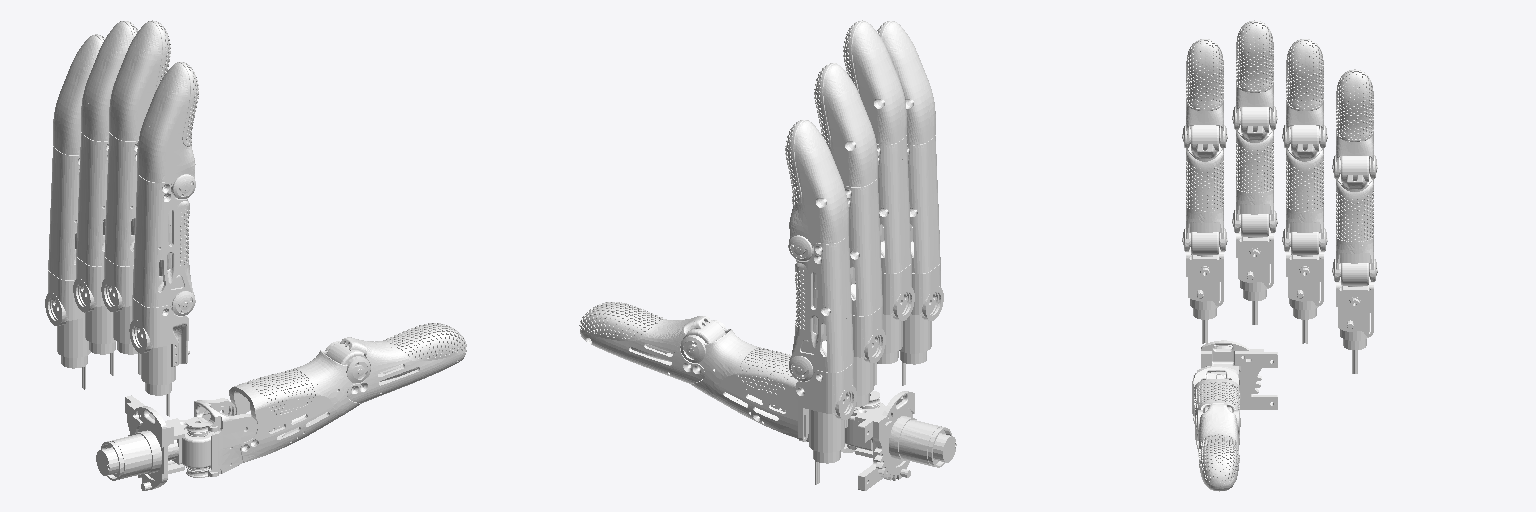
robot.urdf — linkerhand_O20_lefthand:
<?xml version="1.0" encoding="utf-8"?>
<!-- This URDF was automatically created by SolidWorks to URDF Exporter! Originally created by Stephen Brawner (brawner@gmail.com)
     Commit Version: 1.6.0-4-g7f85cfe  Build Version: 1.6.7995.38578
     For more information, please see http://wiki.ros.org/sw_urdf_exporter -->
<robot
  name="linkerhand_O20_lefthand">
  <link
    name="hand_base_link">
    <inertial>
      <origin
        xyz="0.000648975374067051 -0.000462519546840535 0.0517265686869895"
        rpy="0 0 0" />
      <mass
        value="0.0657305134785705" />
      <inertia
        ixx="9.04054997840985E-05"
        ixy="-2.75234518002772E-07"
        ixz="-8.51886675840169E-07"
        iyy="5.28308278830982E-05"
        iyz="4.70142436863329E-06"
        izz="4.80347485644853E-05" />
    </inertial>
    <visual>
      <origin
        xyz="0 0 0"
        rpy="0 0 0" />
      <geometry>
        <mesh
          filename="meshes/hand_base_link.STL" />
      </geometry>
      <material
        name="">
        <color
          rgba="1 1 1 1" />
      </material>
    </visual>
    <collision>
      <origin
        xyz="0 0 0"
        rpy="0 0 0" />
      <geometry>
        <mesh
          filename="meshes/hand_base_link.STL" />
      </geometry>
    </collision>
  </link>
  <link
    name="thumb_metacarpals_base1">
    <inertial>
      <origin
        xyz="0.000771146937415562 0.00084497719014932 0.000232407469227446"
        rpy="0 0 0" />
      <mass
        value="0.00792340800041424" />
      <inertia
        ixx="5.28972955634882E-07"
        ixy="6.67931312358794E-08"
        ixz="-1.53428844431777E-09"
        iyy="1.16791534593254E-06"
        iyz="4.46870988058529E-09"
        izz="1.18436355679925E-06" />
    </inertial>
    <visual>
      <origin
        xyz="0 0 0"
        rpy="0 0 0" />
      <geometry>
        <mesh
          filename="meshes/thumb_metacarpals_base1.STL" />
      </geometry>
      <material
        name="">
        <color
          rgba="1 1 1 1" />
      </material>
    </visual>
    <collision>
      <origin
        xyz="0 0 0"
        rpy="0 0 0" />
      <geometry>
        <mesh
          filename="meshes/thumb_metacarpals_base1.STL" />
      </geometry>
    </collision>
  </link>
  <joint
    name="thumb_cmc_roll"
    type="revolute">
    <origin
      xyz="0.0084485 -0.024335 0.042911"
      rpy="0 0 0" />
    <parent
      link="hand_base_link" />
    <child
      link="thumb_metacarpals_base1" />
    <axis
      xyz="1 0 0" />
    <limit
      lower="-0.5236"
      upper="0.5236"
      effort="0"
      velocity="0" />
  </joint>
  <link
    name="thumb_metacarpals_base2">
    <inertial>
      <origin
        xyz="0.00870930421398751 0.00227212381933294 0.000852913310188878"
        rpy="0 0 0" />
      <mass
        value="0.00201755096384541" />
      <inertia
        ixx="1.55673450807829E-07"
        ixy="-7.51655348866434E-09"
        ixz="-2.21140961379952E-09"
        iyy="1.8647310902385E-07"
        iyz="-1.39015138263771E-08"
        izz="7.39351274624971E-08" />
    </inertial>
    <visual>
      <origin
        xyz="0 0 0"
        rpy="0 0 0" />
      <geometry>
        <mesh
          filename="meshes/thumb_metacarpals_base2.STL" />
      </geometry>
      <material
        name="">
        <color
          rgba="1 1 1 1" />
      </material>
    </visual>
    <collision>
      <origin
        xyz="0 0 0"
        rpy="0 0 0" />
      <geometry>
        <mesh
          filename="meshes/thumb_metacarpals_base2.STL" />
      </geometry>
    </collision>
  </link>
  <joint
    name="thumb_cmc_yaw"
    type="revolute">
    <origin
      xyz="0.0159999999998202 -0.00610000000001085 0"
      rpy="0 0 0" />
    <parent
      link="thumb_metacarpals_base1" />
    <child
      link="thumb_metacarpals_base2" />
    <axis
      xyz="0 0 0.999999999998969" />
    <limit
      lower="-1.574"
      upper="0"
      effort="0"
      velocity="0" />
  </joint>
  <link
    name="thumb_proximal">
    <inertial>
      <origin
        xyz="0.0225715435641468 0.00026960255719418 0.000115977881422098"
        rpy="0 0 0" />
      <mass
        value="0.00586560783329691" />
      <inertia
        ixx="4.79008112297622E-07"
        ixy="-1.29999166088435E-08"
        ixz="-1.93362656446387E-07"
        iyy="1.46284927720239E-06"
        iyz="-2.55858900514429E-09"
        izz="1.12105689609235E-06" />
    </inertial>
    <visual>
      <origin
        xyz="0 0 0"
        rpy="0 0 0" />
      <geometry>
        <mesh
          filename="meshes/thumb_proximal.STL" />
      </geometry>
      <material
        name="">
        <color
          rgba="1 1 1 1" />
      </material>
    </visual>
    <collision>
      <origin
        xyz="0 0 0"
        rpy="0 0 0" />
      <geometry>
        <mesh
          filename="meshes/thumb_proximal.STL" />
      </geometry>
    </collision>
  </link>
  <joint
    name="thumb_mcp"
    type="revolute">
    <origin
      xyz="0.0169416180142918 0.00322287013353829 0.00617135682158507"
      rpy="0 0 0" />
    <parent
      link="thumb_metacarpals_base2" />
    <child
      link="thumb_proximal" />
    <axis
      xyz="0.0130552606816428 -0.999914776314982 -1.65980330510397E-05" />
    <limit
      lower="0"
      upper="1.169"
      effort="0"
      velocity="0" />
  </joint>
  <link
    name="thumb_distal">
    <inertial>
      <origin
        xyz="0.0196992430220476 0.000249310933995647 -0.00375653980408653"
        rpy="0 0 0" />
      <mass
        value="0.00884959085475471" />
      <inertia
        ixx="2.96094866406571E-07"
        ixy="-2.0904464912164E-08"
        ixz="1.04282270143946E-07"
        iyy="1.81209009373165E-06"
        iyz="1.91005361392098E-09"
        izz="1.71221104448825E-06" />
    </inertial>
    <visual>
      <origin
        xyz="0 0 0"
        rpy="0 0 0" />
      <geometry>
        <mesh
          filename="meshes/thumb_distal.STL" />
      </geometry>
      <material
        name="">
        <color
          rgba="1 1 1 1" />
      </material>
    </visual>
    <collision>
      <origin
        xyz="0 0 0"
        rpy="0 0 0" />
      <geometry>
        <mesh
          filename="meshes/thumb_distal.STL" />
      </geometry>
    </collision>
  </link>
  <joint
    name="thumb_dip"
    type="revolute">
    <origin
      xyz="0.0496008878156415 0.00064670858859911 0.01200524971208"
      rpy="0 0 0" />
    <parent
      link="thumb_proximal" />
    <child
      link="thumb_distal" />
    <axis
      xyz="0.013038356643959 -0.999914997015258 0" />
    <limit
      lower="0"
      upper="1.5568"
      effort="0"
      velocity="0" />
  </joint>
  <link
    name="index_metacarpals">
    <inertial>
      <origin
        xyz="0.0098511 6.8949E-06 0.00022516"
        rpy="0 0 0" />
      <mass
        value="0.0072705" />
      <inertia
        ixx="1.0882E-06"
        ixy="-9.5818E-09"
        ixz="-6.4428E-08"
        iyy="1.1773E-06"
        iyz="5.0988E-09"
        izz="2.4317E-07" />
    </inertial>
    <visual>
      <origin
        xyz="0 0 0"
        rpy="0 0 0" />
      <geometry>
        <mesh
          filename="meshes/index_metacarpals.STL" />
      </geometry>
      <material
        name="">
        <color
          rgba="1 1 1 1" />
      </material>
    </visual>
    <collision>
      <origin
        xyz="0 0 0"
        rpy="0 0 0" />
      <geometry>
        <mesh
          filename="meshes/index_metacarpals.STL" />
      </geometry>
    </collision>
  </link>
  <joint
    name="index_mcp_roll"
    type="revolute">
    <origin
      xyz="-0.0024054 -0.032129 0.095682"
      rpy="0 0 0" />
    <parent
      link="hand_base_link" />
    <child
      link="index_metacarpals" />
    <axis
      xyz="0.99996 -0.0088916 0" />
    <limit
      lower="-0.08726"
      upper="0.3543"
      effort="0"
      velocity="0" />
  </joint>
  <link
    name="index_middle">
    <inertial>
      <origin
        xyz="-0.003764 -2.3903E-05 0.032554"
        rpy="0 0 0" />
      <mass
        value="0.0083271" />
      <inertia
        ixx="1.8629E-06"
        ixy="-4.798E-10"
        ixz="-2.0139E-08"
        iyy="1.99E-06"
        iyz="-2.3042E-09"
        izz="2.9723E-07" />
    </inertial>
    <visual>
      <origin
        xyz="0 0 0"
        rpy="0 0 0" />
      <geometry>
        <mesh
          filename="meshes/index_middle.STL" />
      </geometry>
      <material
        name="">
        <color
          rgba="1 1 1 1" />
      </material>
    </visual>
    <collision>
      <origin
        xyz="0 0 0"
        rpy="0 0 0" />
      <geometry>
        <mesh
          filename="meshes/index_middle.STL" />
      </geometry>
    </collision>
  </link>
  <joint
    name="index_pip"
    type="revolute">
    <origin
      xyz="0.014909 0 0.0135"
      rpy="0 0 0" />
    <parent
      link="index_metacarpals" />
    <child
      link="index_middle" />
    <axis
      xyz="0 1 1.3016E-05" />
    <limit
      lower="0"
      upper="1.9548"
      effort="0"
      velocity="0" />
  </joint>
  <link
    name="index_distal">
    <inertial>
      <origin
        xyz="-0.0014135 -1.9292E-06 0.023481"
        rpy="0 0 0" />
      <mass
        value="0.004003" />
      <inertia
        ixx="5.1085E-07"
        ixy="-1.8343E-10"
        ixz="-7.4535E-08"
        iyy="5.7657E-07"
        iyz="1.0846E-09"
        izz="1.2506E-07" />
    </inertial>
    <visual>
      <origin
        xyz="0 0 0"
        rpy="0 0 0" />
      <geometry>
        <mesh
          filename="meshes/index_distal.STL" />
      </geometry>
      <material
        name="">
        <color
          rgba="1 1 1 1" />
      </material>
    </visual>
    <collision>
      <origin
        xyz="0 0 0"
        rpy="0 0 0" />
      <geometry>
        <mesh
          filename="meshes/index_distal.STL" />
      </geometry>
    </collision>
  </link>
  <joint
    name="index_dip"
    type="revolute">
    <origin
      xyz="0.00032142 0 0.047999"
      rpy="0 0 0" />
    <parent
      link="index_middle" />
    <child
      link="index_distal" />
    <axis
      xyz="0 1 1.7355E-05" />
    <limit
      lower="0"
      upper="1.9897"
      effort="0"
      velocity="0" />
  </joint>
  <link
    name="middle_metacarpals">
    <inertial>
      <origin
        xyz="0.00985112380396759 6.89492563147459E-06 0.000225141055586464"
        rpy="0 0 0" />
      <mass
        value="0.00727048835691936" />
      <inertia
        ixx="1.08824930583166E-06"
        ixy="-9.58183173182215E-09"
        ixz="-6.44292309783672E-08"
        iyy="1.17726762181938E-06"
        iyz="5.09882403771229E-09"
        izz="2.43171621808464E-07" />
    </inertial>
    <visual>
      <origin
        xyz="0 0 0"
        rpy="0 0 0" />
      <geometry>
        <mesh
          filename="meshes/middle_metacarpals.STL" />
      </geometry>
      <material
        name="">
        <color
          rgba="1 1 1 1" />
      </material>
    </visual>
    <collision>
      <origin
        xyz="0 0 0"
        rpy="0 0 0" />
      <geometry>
        <mesh
          filename="meshes/middle_metacarpals.STL" />
      </geometry>
    </collision>
  </link>
  <joint
    name="middle_mcp_roll"
    type="revolute">
    <origin
      xyz="-0.0024054 -0.011129 0.10418"
      rpy="0 0 0" />
    <parent
      link="hand_base_link" />
    <child
      link="middle_metacarpals" />
    <axis
      xyz="0.99996 -0.0086973 0.0018472" />
    <limit
      lower="-0.267"
      upper="0.267"
      effort="0"
      velocity="0" />
  </joint>
  <link
    name="middle_middle">
    <inertial>
      <origin
        xyz="-0.00376403707228497 -2.39030147418818E-05 0.0325535995449692"
        rpy="0 0 0" />
      <mass
        value="0.00832707181666394" />
      <inertia
        ixx="1.8629103451066E-06"
        ixy="-4.79806530809371E-10"
        ixz="-2.01361143192463E-08"
        iyy="1.99000147619897E-06"
        iyz="-2.30420387977866E-09"
        izz="2.97230484771185E-07" />
    </inertial>
    <visual>
      <origin
        xyz="0 0 0"
        rpy="0 0 0" />
      <geometry>
        <mesh
          filename="meshes/middle_middle.STL" />
      </geometry>
      <material
        name="">
        <color
          rgba="1 1 1 1" />
      </material>
    </visual>
    <collision>
      <origin
        xyz="0 0 0"
        rpy="0 0 0" />
      <geometry>
        <mesh
          filename="meshes/middle_middle.STL" />
      </geometry>
    </collision>
  </link>
  <joint
    name="middle_pip"
    type="revolute">
    <origin
      xyz="0.014909 0 0.0135"
      rpy="0 0 0" />
    <parent
      link="middle_metacarpals" />
    <child
      link="middle_middle" />
    <axis
      xyz="0 1 1.3016E-05" />
    <limit
      lower="0"
      upper="1.9548"
      effort="0"
      velocity="0" />
  </joint>
  <link
    name="middle_distal">
    <inertial>
      <origin
        xyz="-0.00141350878717988 -1.93143510210728E-06 0.023480662891692"
        rpy="0 0 0" />
      <mass
        value="0.00400304702685047" />
      <inertia
        ixx="5.10848849929493E-07"
        ixy="-1.83418620576793E-10"
        ixz="-7.4535156909121E-08"
        iyy="5.76570709995679E-07"
        iyz="1.08476698629923E-09"
        izz="1.25057994867477E-07" />
    </inertial>
    <visual>
      <origin
        xyz="0 0 0"
        rpy="0 0 0" />
      <geometry>
        <mesh
          filename="meshes/middle_distal.STL" />
      </geometry>
      <material
        name="">
        <color
          rgba="1 1 1 1" />
      </material>
    </visual>
    <collision>
      <origin
        xyz="0 0 0"
        rpy="0 0 0" />
      <geometry>
        <mesh
          filename="meshes/middle_distal.STL" />
      </geometry>
    </collision>
  </link>
  <joint
    name="middle_dip"
    type="revolute">
    <origin
      xyz="0.00032142 0 0.047999"
      rpy="0 0 0" />
    <parent
      link="middle_middle" />
    <child
      link="middle_distal" />
    <axis
      xyz="0 1 1.7355E-05" />
    <limit
      lower="0"
      upper="1.9897"
      effort="0"
      velocity="0" />
  </joint>
  <link
    name="ring_metacarpals">
    <inertial>
      <origin
        xyz="0.00985112380408545 6.89492548055538E-06 0.000225141055982175"
        rpy="0 0 0" />
      <mass
        value="0.0072704883571626" />
      <inertia
        ixx="1.08824930588699E-06"
        ixy="-9.58183172831058E-09"
        ixz="-6.44292309889829E-08"
        iyy="1.17726762187183E-06"
        iyz="5.09882405383803E-09"
        izz="2.431716218161E-07" />
    </inertial>
    <visual>
      <origin
        xyz="0 0 0"
        rpy="0 0 0" />
      <geometry>
        <mesh
          filename="meshes/ring_metacarpals.STL" />
      </geometry>
      <material
        name="">
        <color
          rgba="1 1 1 1" />
      </material>
    </visual>
    <collision>
      <origin
        xyz="0 0 0"
        rpy="0 0 0" />
      <geometry>
        <mesh
          filename="meshes/ring_metacarpals.STL" />
      </geometry>
    </collision>
  </link>
  <joint
    name="ring_mcp_roll"
    type="revolute">
    <origin
      xyz="-0.0024054 0.009871 0.095682"
      rpy="0 0 0" />
    <parent
      link="hand_base_link" />
    <child
      link="ring_metacarpals" />
    <axis
      xyz="0.99996 0.0086973 0.0018472" />
    <limit
      lower="-0.1920"
      upper="0.2112"
      effort="0"
      velocity="0" />
  </joint>
  <link
    name="ring_middle">
    <inertial>
      <origin
        xyz="-0.00376399419828295 -2.39028840228334E-05 0.0325536773724217"
        rpy="0 0 0" />
      <mass
        value="0.00832712852462523" />
      <inertia
        ixx="1.8629153960351E-06"
        ixy="-4.79801782801795E-10"
        ixz="-2.01388171020964E-08"
        iyy="1.99000799752672E-06"
        iyz="-2.30419646107473E-09"
        izz="2.9723195459262E-07" />
    </inertial>
    <visual>
      <origin
        xyz="0 0 0"
        rpy="0 0 0" />
      <geometry>
        <mesh
          filename="meshes/ring_middle.STL" />
      </geometry>
      <material
        name="">
        <color
          rgba="1 1 1 1" />
      </material>
    </visual>
    <collision>
      <origin
        xyz="0 0 0"
        rpy="0 0 0" />
      <geometry>
        <mesh
          filename="meshes/ring_middle.STL" />
      </geometry>
    </collision>
  </link>
  <joint
    name="ring_pip"
    type="revolute">
    <origin
      xyz="0.014909 0 0.0135"
      rpy="0 0 0" />
    <parent
      link="ring_metacarpals" />
    <child
      link="ring_middle" />
    <axis
      xyz="0 1 1.3016E-05" />
    <limit
      lower="0"
      upper="1.9548"
      effort="0"
      velocity="0" />
  </joint>
  <link
    name="ring_distal">
    <inertial>
      <origin
        xyz="-0.00141350832152518 -1.92953857552913E-06 0.0234806643710451"
        rpy="0 0 0" />
      <mass
        value="0.00400304721195506" />
      <inertia
        ixx="5.10849045433419E-07"
        ixy="-1.83429308652983E-10"
        ixz="-7.45352087354393E-08"
        iyy="5.76570895589038E-07"
        iyz="1.08461688303403E-09"
        izz="1.25058053209945E-07" />
    </inertial>
    <visual>
      <origin
        xyz="0 0 0"
        rpy="0 0 0" />
      <geometry>
        <mesh
          filename="meshes/ring_distal.STL" />
      </geometry>
      <material
        name="">
        <color
          rgba="1 1 1 1" />
      </material>
    </visual>
    <collision>
      <origin
        xyz="0 0 0"
        rpy="0 0 0" />
      <geometry>
        <mesh
          filename="meshes/ring_distal.STL" />
      </geometry>
    </collision>
  </link>
  <joint
    name="ring_dip"
    type="revolute">
    <origin
      xyz="0.00032142 0 0.047999"
      rpy="0 0 0" />
    <parent
      link="ring_middle" />
    <child
      link="ring_distal" />
    <axis
      xyz="0 1 1.7355E-05" />
    <limit
      lower="0"
      upper="1.9897"
      effort="0"
      velocity="0" />
  </joint>
  <link
    name="pinky_metacarpals">
    <inertial>
      <origin
        xyz="0 0 0"
        rpy="0 0 0" />
      <mass
        value="0" />
      <inertia
        ixx="0"
        ixy="0"
        ixz="0"
        iyy="0"
        iyz="0"
        izz="0" />
    </inertial>
    <visual>
      <origin
        xyz="0 0 0"
        rpy="0 0 0" />
      <geometry>
        <mesh
          filename="meshes/pinky_metacarpals.STL" />
      </geometry>
      <material
        name="">
        <color
          rgba="1 1 1 1" />
      </material>
    </visual>
    <collision>
      <origin
        xyz="0 0 0"
        rpy="0 0 0" />
      <geometry>
        <mesh
          filename="meshes/pinky_metacarpals.STL" />
      </geometry>
    </collision>
  </link>
  <joint
    name="pinky_mcp_roll"
    type="revolute">
    <origin
      xyz="-0.0024054 0.030888 0.081471"
      rpy="0 0 0" />
    <parent
      link="hand_base_link" />
    <child
      link="pinky_metacarpals" />
    <axis
      xyz="0.99996 0.0088916 0" />
    <limit
      lower="-0.2182"
      upper="0.08726"
      effort="0"
      velocity="0" />
  </joint>
  <link
    name="pinky_middle">
    <inertial>
      <origin
        xyz="-0.00376399515279648 -2.39029570825895E-05 0.0325536974306525"
        rpy="0 0 0" />
      <mass
        value="0.00832713433907816" />
      <inertia
        ixx="1.86291804465631E-06"
        ixy="-4.79800211319669E-10"
        ixz="-2.01391174818784E-08"
        iyy="1.9900103591083E-06"
        iyz="-2.30418830421996E-09"
        izz="2.97231669889002E-07" />
    </inertial>
    <visual>
      <origin
        xyz="0 0 0"
        rpy="0 0 0" />
      <geometry>
        <mesh
          filename="meshes/pinky_middle.STL" />
      </geometry>
      <material
        name="">
        <color
          rgba="1 1 1 1" />
      </material>
    </visual>
    <collision>
      <origin
        xyz="0 0 0"
        rpy="0 0 0" />
      <geometry>
        <mesh
          filename="meshes/pinky_middle.STL" />
      </geometry>
    </collision>
  </link>
  <joint
    name="pinky_pip"
    type="revolute">
    <origin
      xyz="0.014909 0 0.0135"
      rpy="0 0 0" />
    <parent
      link="pinky_metacarpals" />
    <child
      link="pinky_middle" />
    <axis
      xyz="0 1 1.3016E-05" />
    <limit
      lower="0"
      upper="1.9548"
      effort="0"
      velocity="0" />
  </joint>
  <link
    name="pinky_distal">
    <inertial>
      <origin
        xyz="-0.00141350755991713 -1.92537054168052E-06 0.0234806763504979"
        rpy="0 0 0" />
      <mass
        value="0.00400304621179198" />
      <inertia
        ixx="5.108495162192E-07"
        ixy="-1.83463864255841E-10"
        ixz="-7.45353604375425E-08"
        iyy="5.76571345882012E-07"
        iyz="1.0845204879129E-09"
        izz="1.25058087087046E-07" />
    </inertial>
    <visual>
      <origin
        xyz="0 0 0"
        rpy="0 0 0" />
      <geometry>
        <mesh
          filename="meshes/pinky_distal.STL" />
      </geometry>
      <material
        name="">
        <color
          rgba="1 1 1 1" />
      </material>
    </visual>
    <collision>
      <origin
        xyz="0 0 0"
        rpy="0 0 0" />
      <geometry>
        <mesh
          filename="meshes/pinky_distal.STL" />
      </geometry>
    </collision>
  </link>
  <joint
    name="pinky_dip"
    type="revolute">
    <origin
      xyz="0.00032142 0 0.047999"
      rpy="0 0 0" />
    <parent
      link="pinky_middle" />
    <child
      link="pinky_distal" />
    <axis
      xyz="0 1 1.7355E-05" />
    <limit
      lower="0"
      upper="1.9897"
      effort="0"
      velocity="0" />
  </joint>
</robot>

--- What the picture shows (computed from the rendered views, not written in the file) ---
3 views of the same robot in one strip: view 1: azimuth 30°, elevation 25°; view 2: azimuth 150°, elevation 25°; view 3: azimuth 270°, elevation 25° (orthographic).
Robot: linkerhand_O20_lefthand — 17 links, 16 joints (16 revolute); root link hand_base_link; default pose: all joints at 0.
Visible links, largest first — view 1: thumb_proximal, index_middle, thumb_metacarpals_base1, thumb_distal, index_distal, middle_distal, index_metacarpals, middle_middle, ring_middle, pinky_middle, thumb_metacarpals_base2, ring_distal (+4 smaller); view 2: thumb_proximal, pinky_middle, thumb_distal, thumb_metacarpals_base1, pinky_distal, ring_distal, middle_distal, pinky_metacarpals, ring_middle, middle_middle, index_middle, index_distal (+3 smaller); view 3: ring_middle, index_middle, pinky_middle, middle_middle, middle_distal, pinky_distal, ring_distal, index_distal, thumb_distal, ring_metacarpals, middle_metacarpals, index_metacarpals (+4 smaller).
Link boxes in pixels (x1,y1,x2,y2): thumb_proximal: [229, 341, 370, 462]; index_middle: [132, 173, 195, 315]; thumb_metacarpals_base1: [96, 395, 213, 490]; thumb_distal: [326, 323, 466, 403]; index_distal: [137, 62, 198, 198]; middle_distal: [109, 20, 170, 140]; index_metacarpals: [129, 275, 194, 416]; middle_middle: [104, 132, 138, 266]; ring_middle: [76, 132, 108, 266]; pinky_middle: [48, 146, 79, 279]; thumb_metacarpals_base2: [186, 398, 257, 477]; ring_distal: [81, 21, 137, 141]; thumb_proximal: [680, 320, 808, 441]; pinky_middle: [789, 235, 853, 381]; thumb_distal: [579, 302, 725, 383]; thumb_metacarpals_base1: [845, 391, 956, 490]; pinky_distal: [785, 120, 848, 260]; ring_distal: [814, 63, 877, 186]; middle_distal: [843, 20, 906, 144]; pinky_metacarpals: [790, 340, 856, 484]; ring_middle: [844, 178, 882, 315]; middle_middle: [877, 135, 911, 273]; index_middle: [907, 135, 940, 273]; index_distal: [877, 21, 935, 144]; ring_middle: [1282, 125, 1327, 251]; index_middle: [1182, 125, 1227, 251]; pinky_middle: [1332, 156, 1377, 281]; middle_middle: [1232, 107, 1277, 232]; middle_distal: [1233, 20, 1276, 129]; pinky_distal: [1333, 69, 1376, 178]; ring_distal: [1283, 39, 1326, 147]; index_distal: [1183, 39, 1226, 147]; thumb_distal: [1197, 404, 1239, 491]; ring_metacarpals: [1282, 232, 1327, 343]; middle_metacarpals: [1232, 214, 1277, 324]; index_metacarpals: [1182, 232, 1227, 343].
Size in the robot's own frame: 0.1554 by 0.082 by 0.1857 metres.
16 mesh visuals loaded from 17 distinct referenced files (16 binary STL); not drawn: 1 (reference not matched to a file when rendering).
